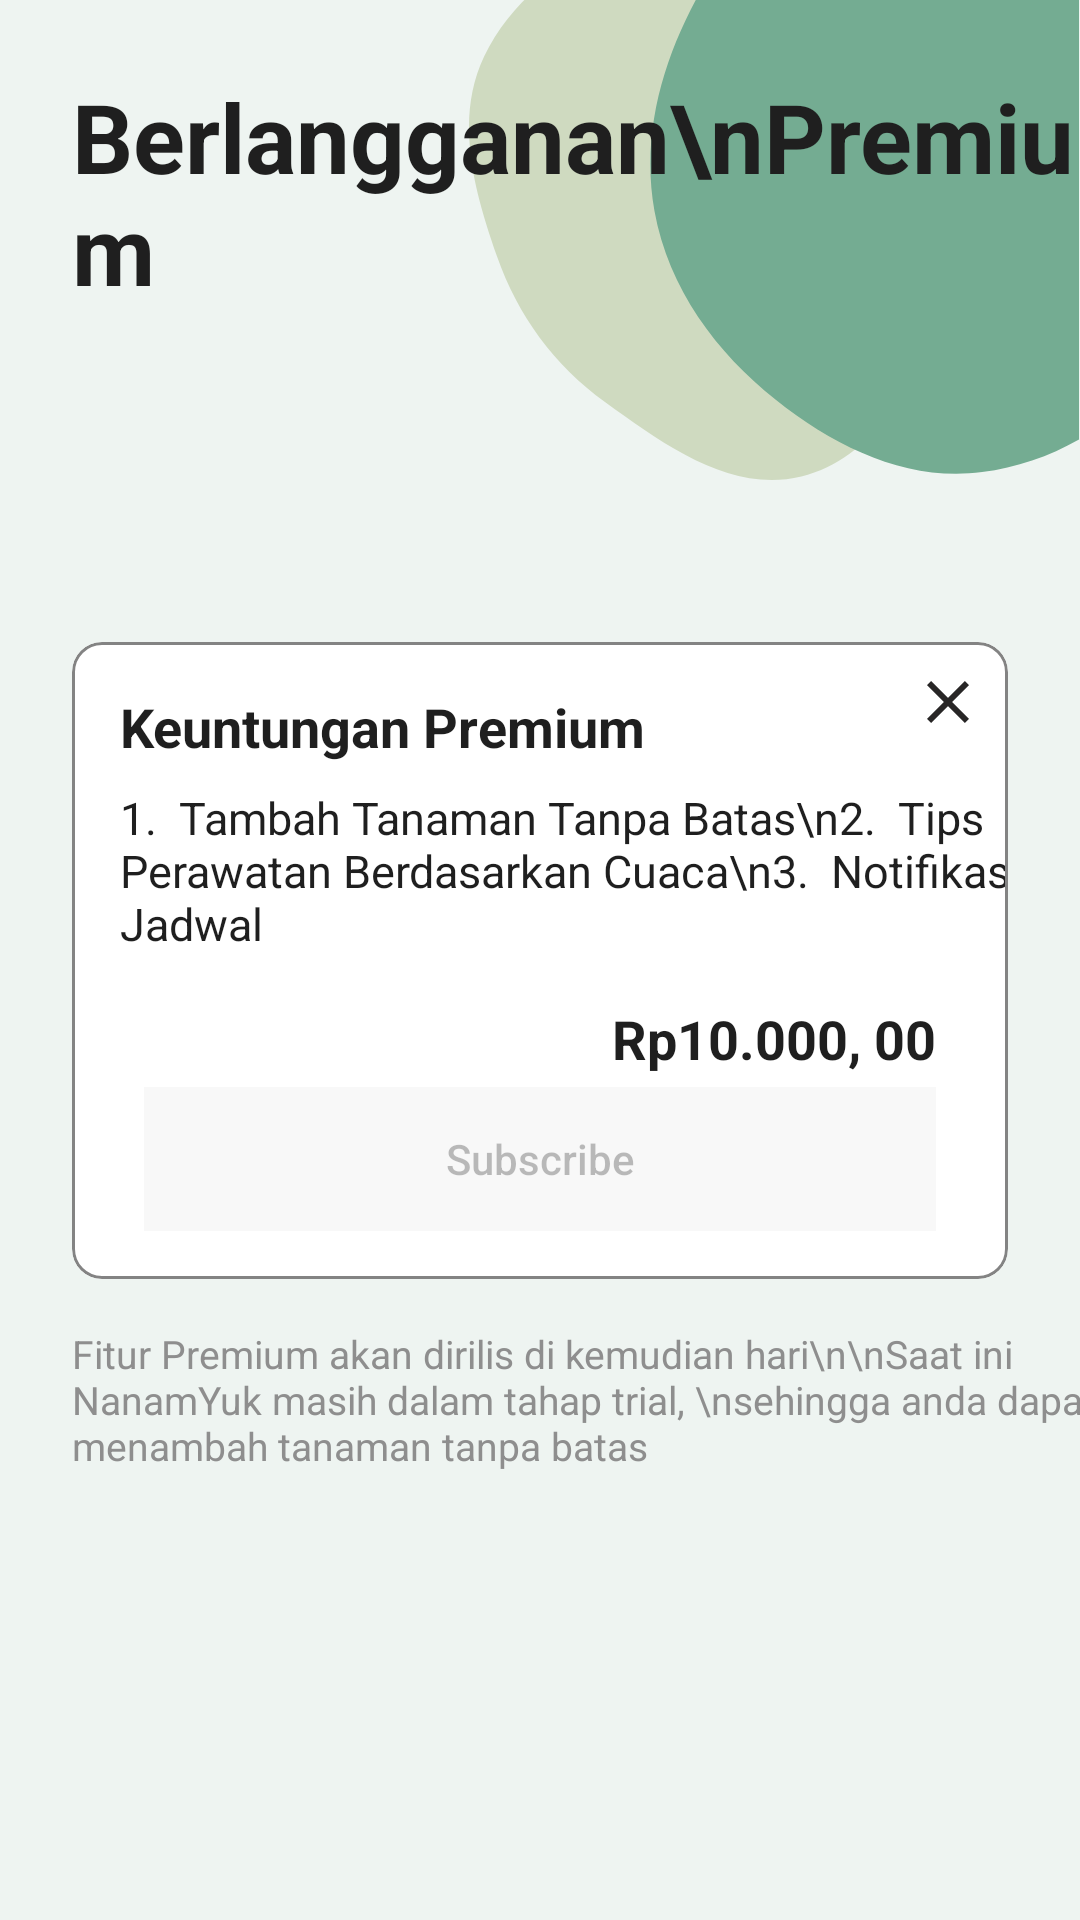

Screen size 1080w x 1920h. Icon name, then its center in pixels as (x=x, y=y):
close: (x=948, y=702)
